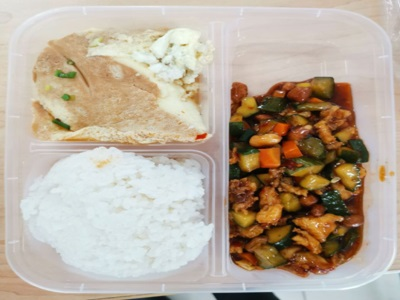gbjd: (225, 74, 360, 269)
jdg: (25, 25, 206, 144)
rice: (31, 153, 195, 274)
